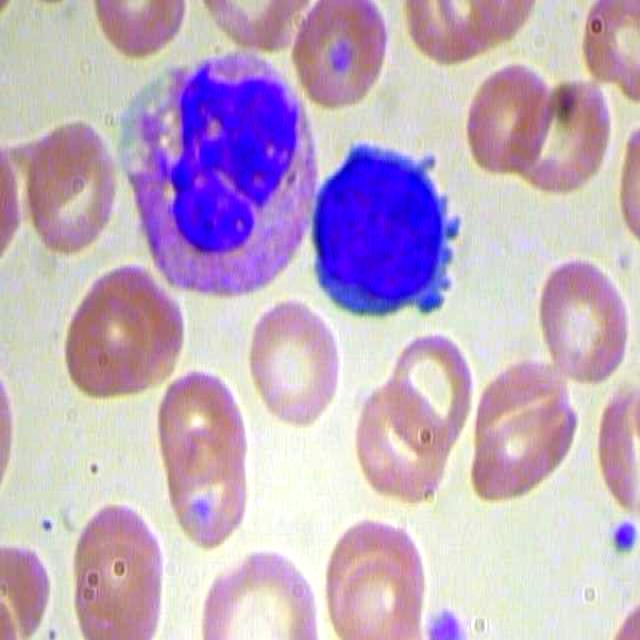Platelets: (604, 513, 637, 556)
RBC: (64, 486, 170, 640), (23, 117, 124, 260), (377, 312, 478, 455), (59, 261, 160, 404), (242, 296, 347, 433), (531, 248, 631, 384), (320, 516, 429, 640), (190, 549, 322, 640), (152, 365, 256, 480), (289, 1, 393, 115), (464, 57, 556, 183)
WBC: (107, 45, 324, 312), (306, 136, 460, 328)
